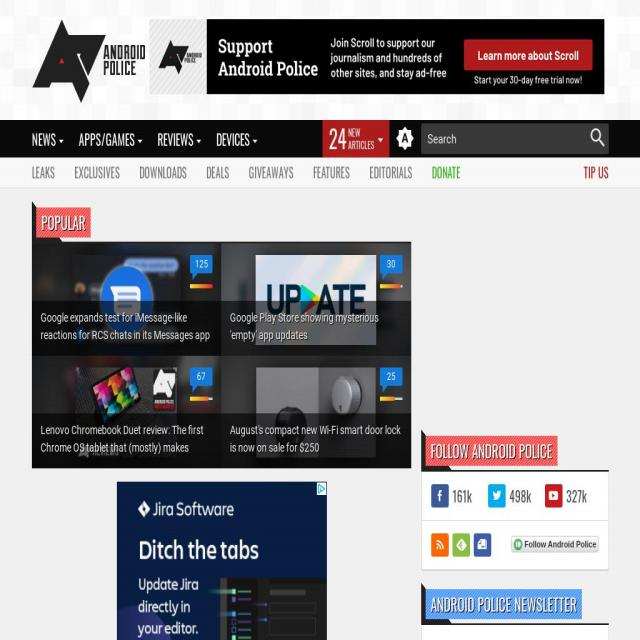content: (1, 0, 640, 118)
follow-options: (424, 472, 611, 566)
navigation-blocks: (32, 202, 414, 472)
navigation-links: (31, 158, 462, 184), (30, 118, 262, 157)
search: (422, 122, 608, 155)
